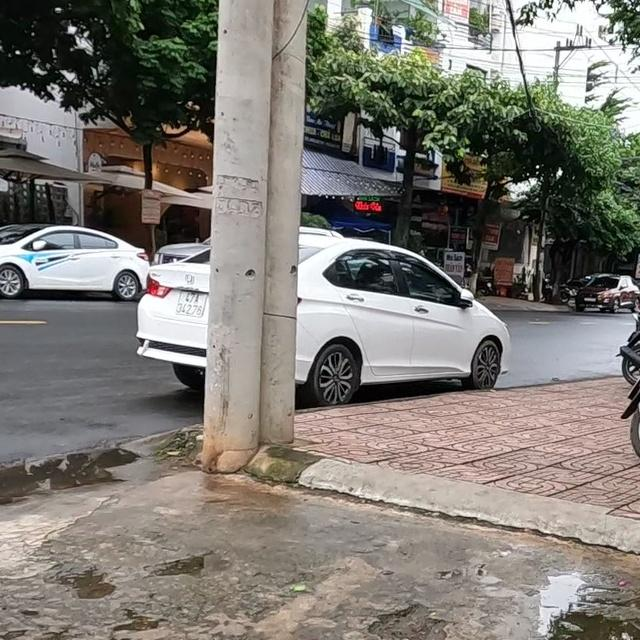license-plate: (175, 290, 206, 318)
